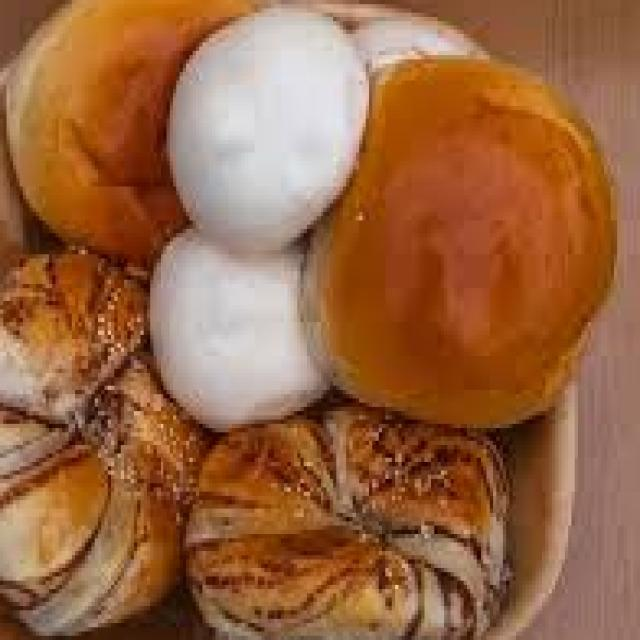inorganic: (327, 46, 608, 454), (9, 242, 266, 627), (186, 389, 537, 635), (132, 53, 457, 243), (106, 225, 412, 410), (3, 31, 283, 212)
